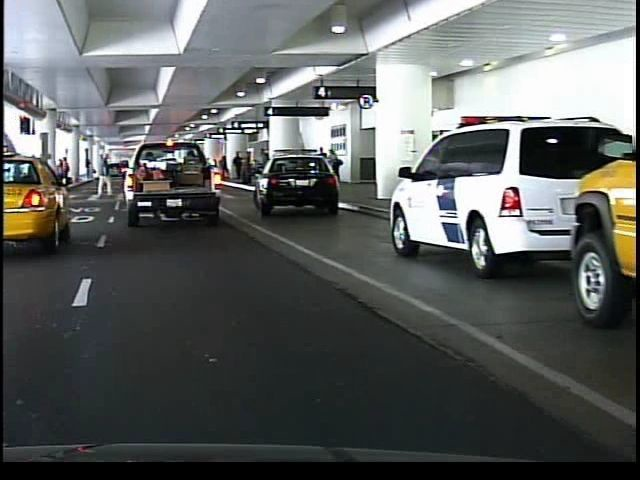person: (91, 152, 113, 200)
